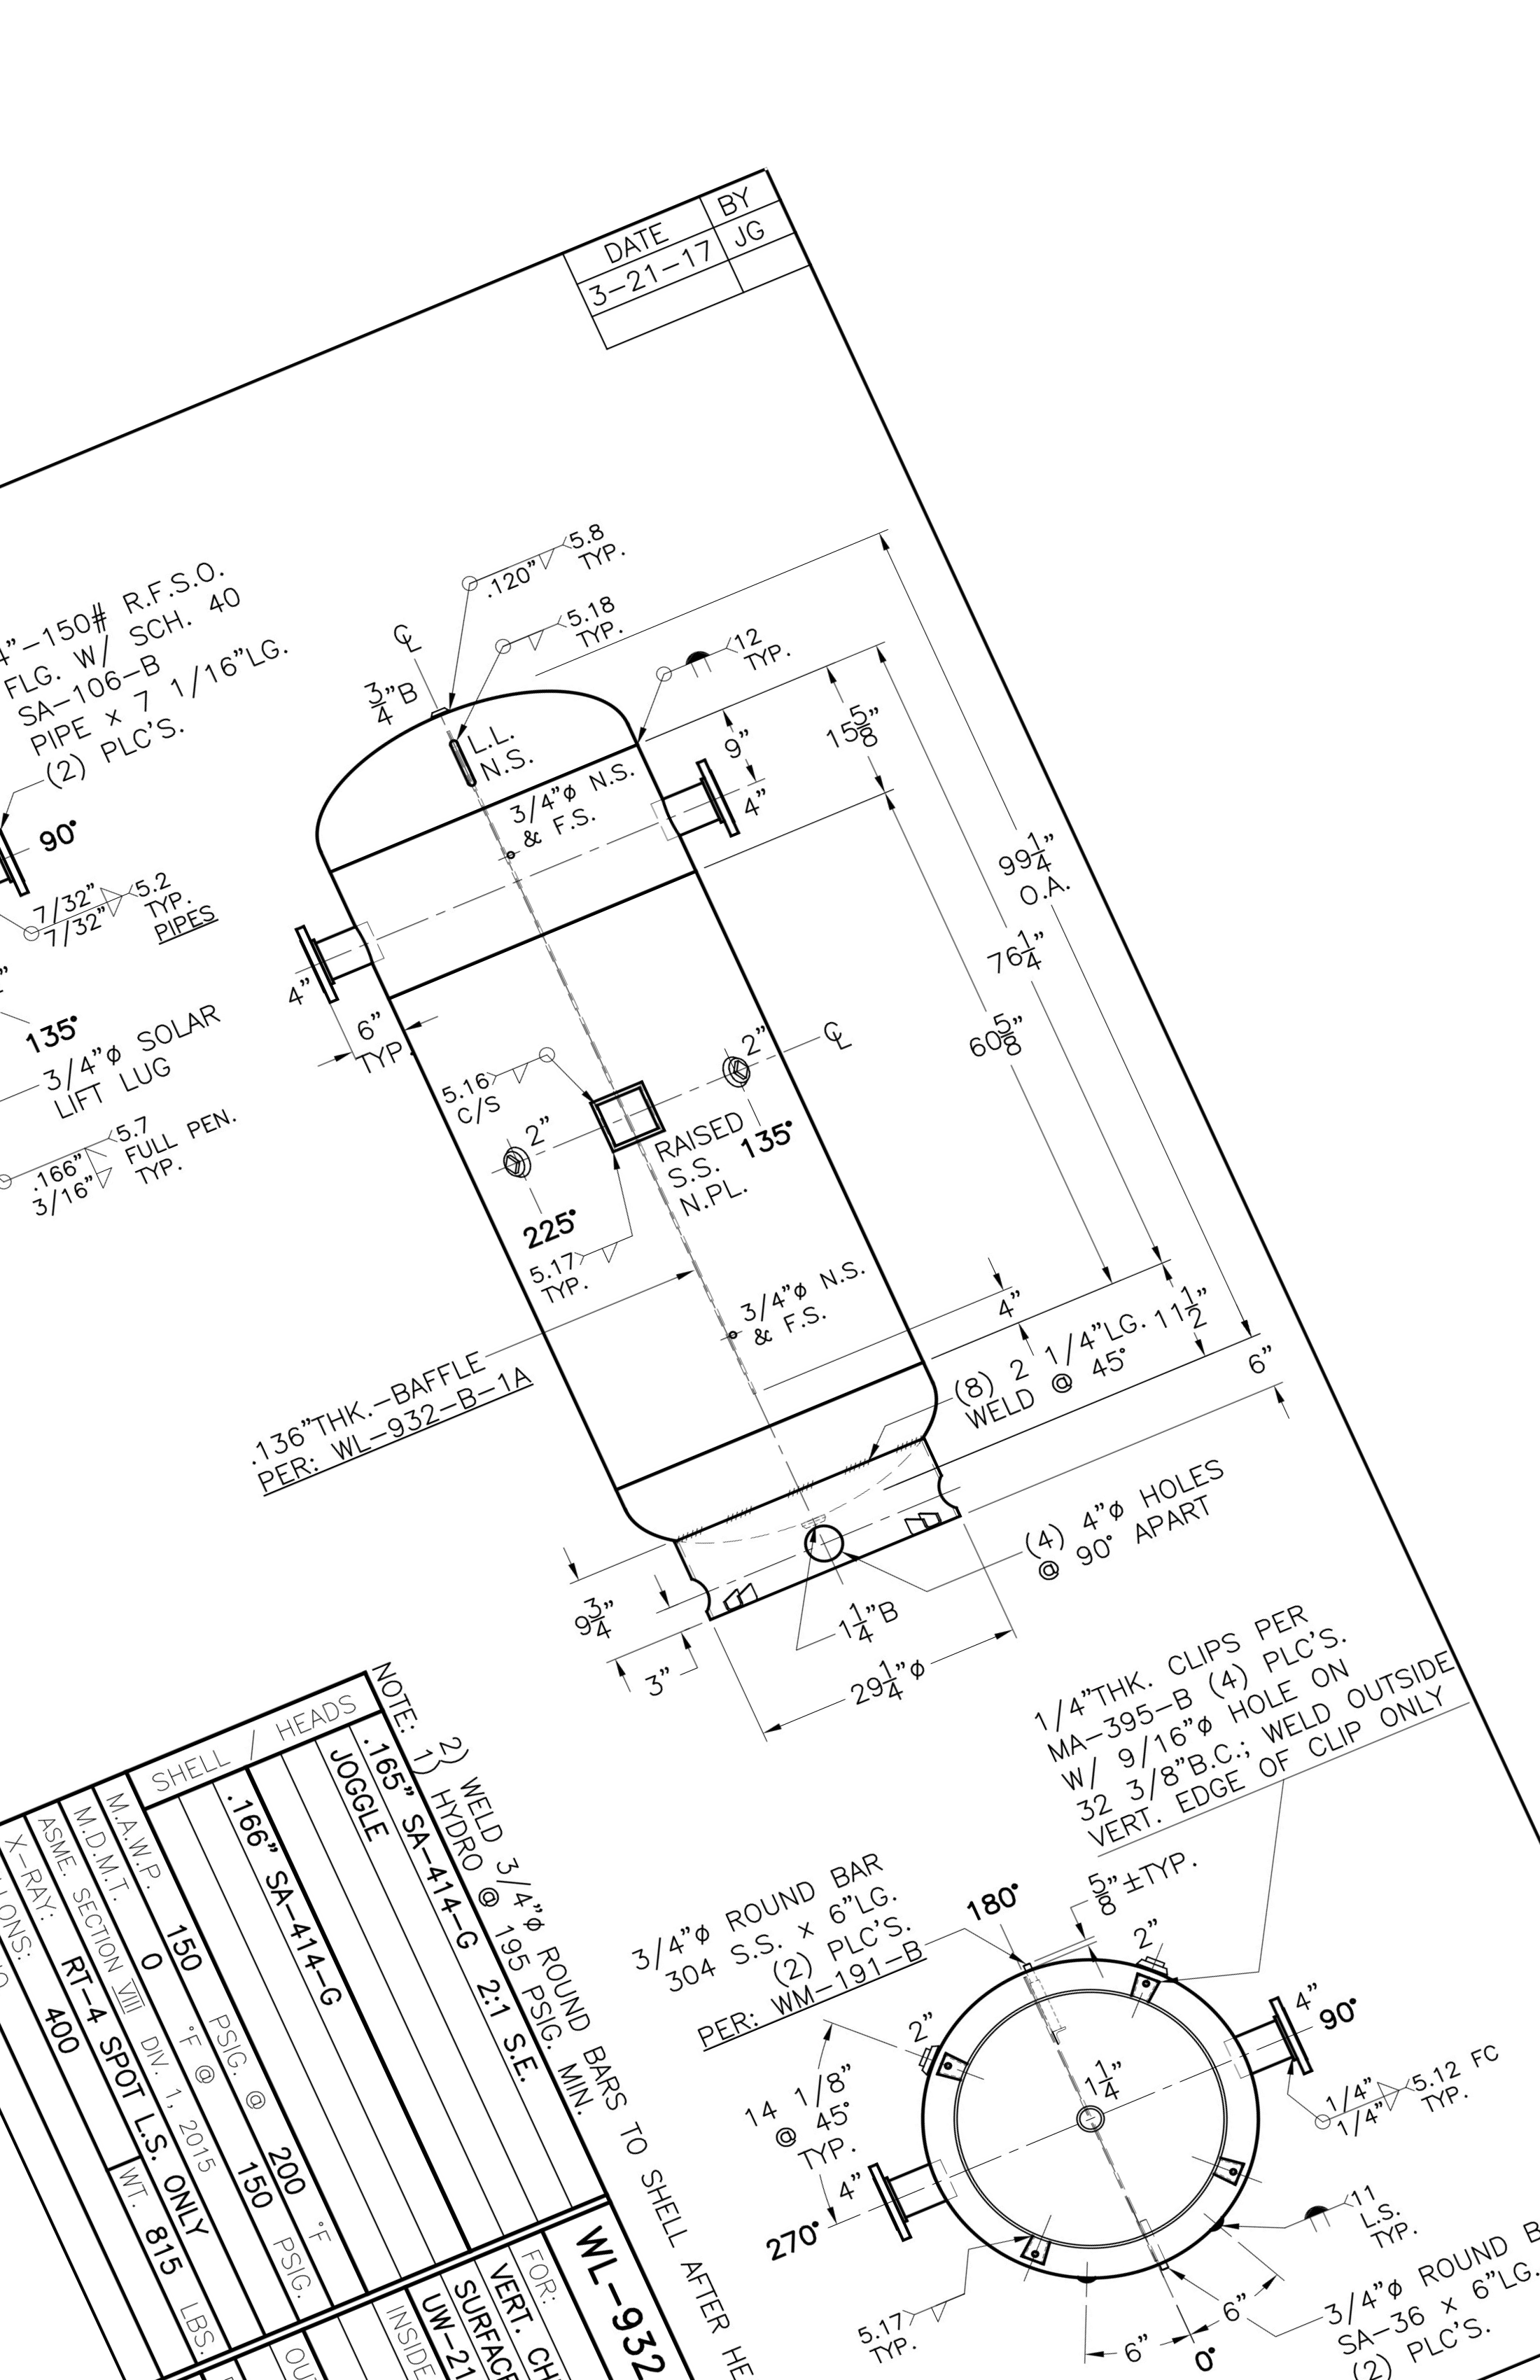Nozzle: (806, 2127, 990, 2248), (250, 897, 401, 1013), (1183, 2004, 1339, 2104), (621, 762, 770, 862)
